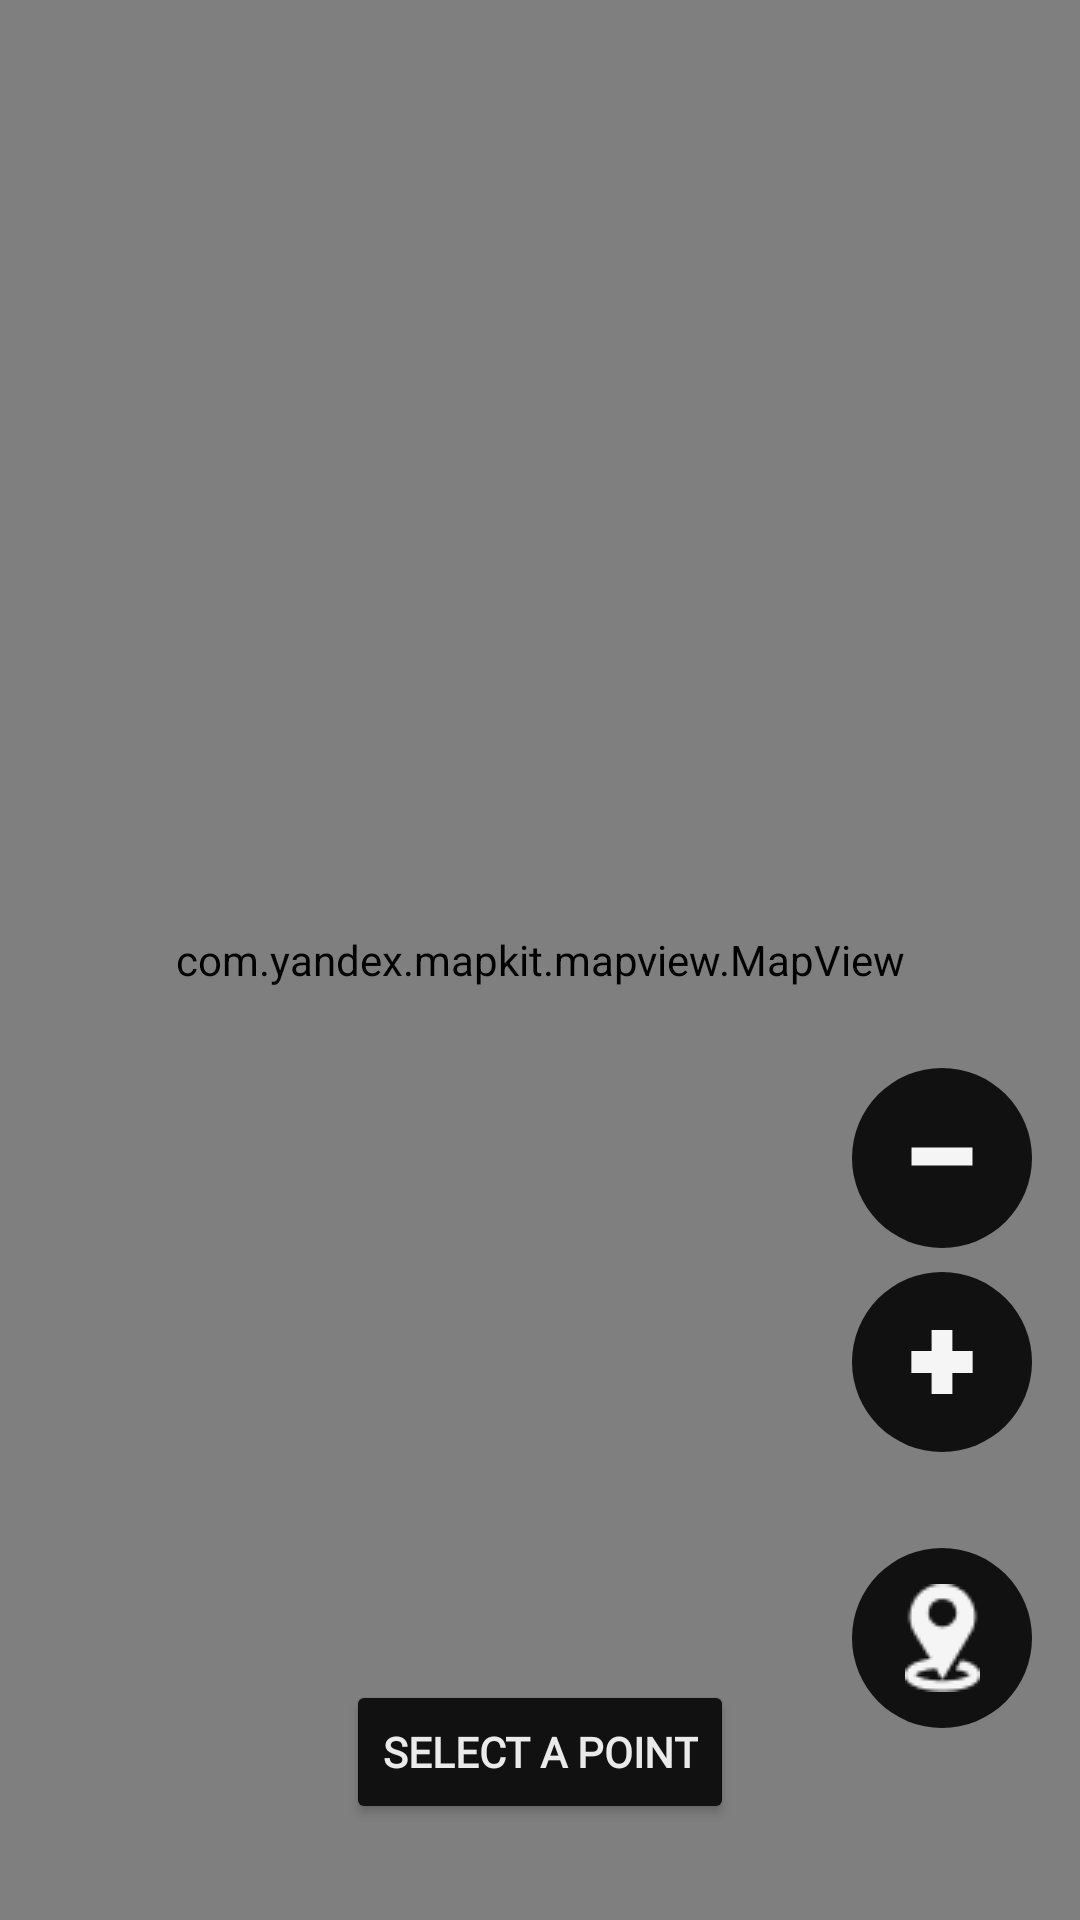

Named icons in this screenshot (1080 × 1920) and their bounding boxes, (x1, y1, x2, y2):
location: (852, 1548, 1032, 1728)
minus: (852, 1068, 1032, 1248)
plus: (852, 1272, 1032, 1452)
